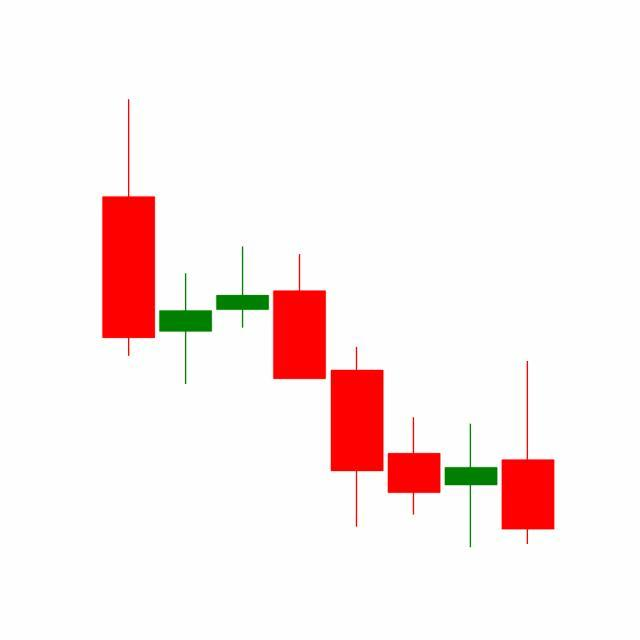Hikkake Pattern: (214, 243, 501, 549)
